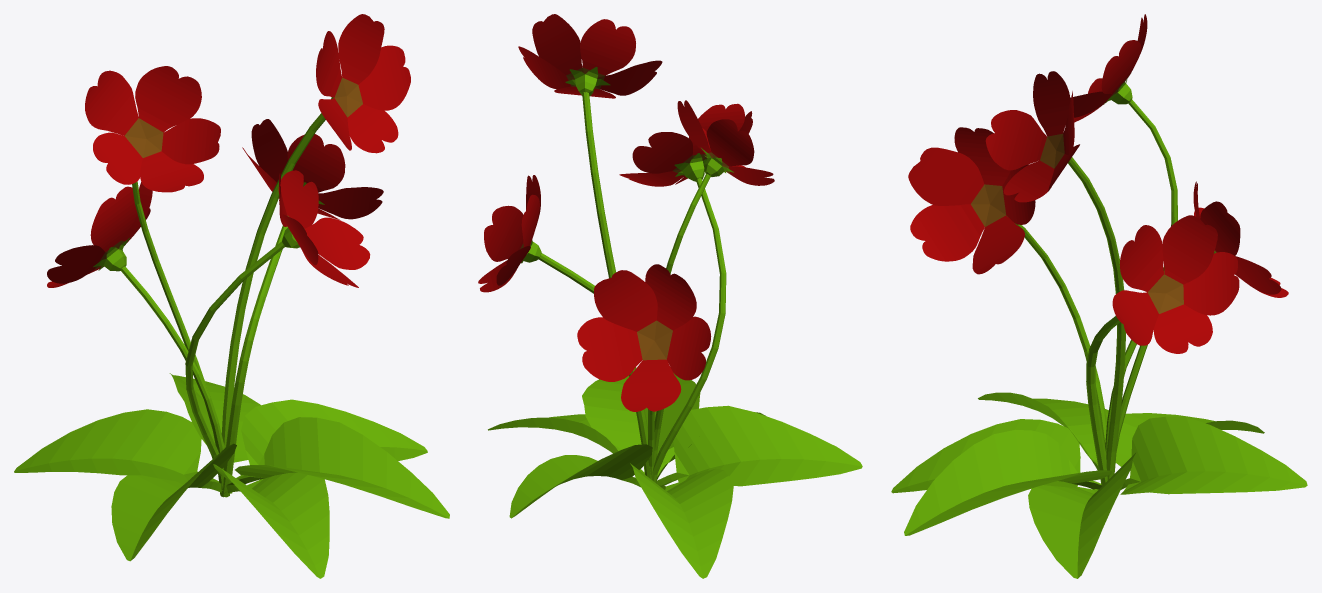
The model's file is RodeBloem_02(1).fbx.
The picture shows the model from 3 angles, left to right: view 1: azimuth 30°, elevation 25°; view 2: azimuth 150°, elevation 25°; view 3: azimuth 270°, elevation 25°; orthographic projection. The views are drawn at different scales.
Visible parts, largest first — view 1: Mesh; view 2: Mesh; view 3: Mesh.
Part boxes in pixels (box(x1,y1,x2,y2)): Mesh: box(14, 14, 449, 578); Mesh: box(478, 14, 862, 578); Mesh: box(891, 14, 1307, 578).
Size of the model in its own units: 0.0056 by 0.00717 by 0.00582.
